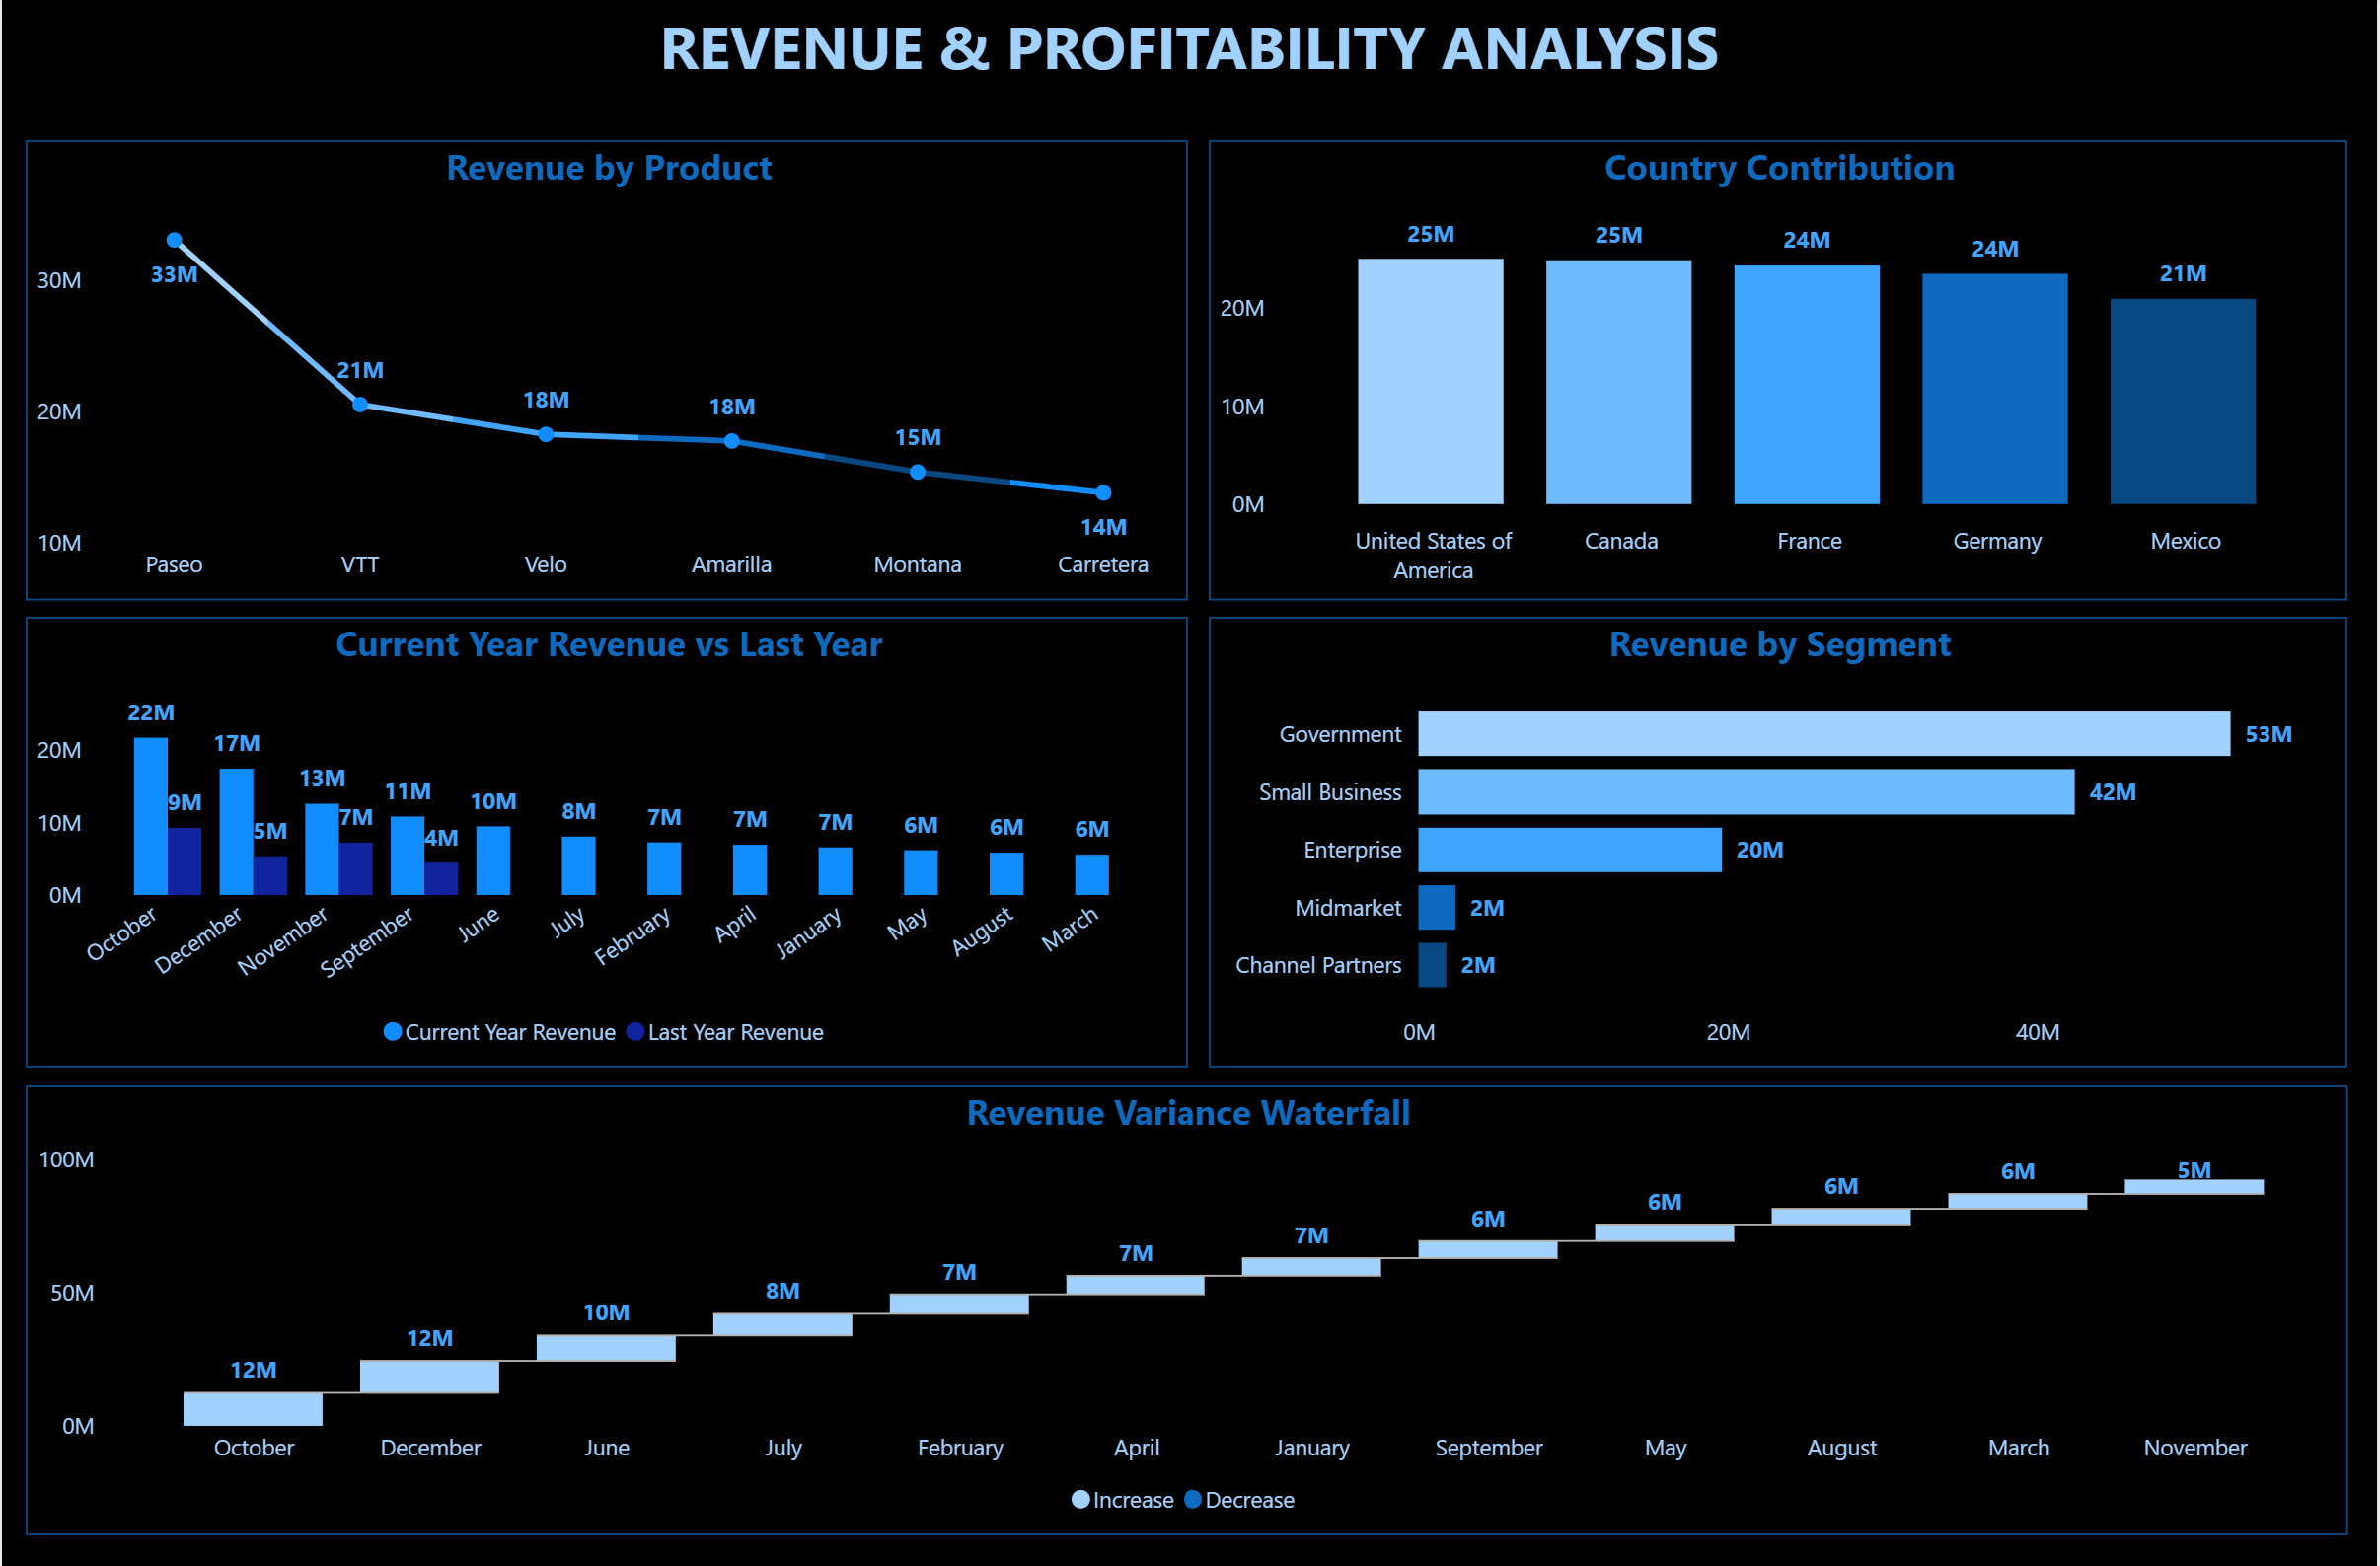

The page's visual inventory and layout, read from the dashboard file:
{"tool":"powerbi","page":{"name":"Performance Analysis","canvas":[1280,850],"ordinal":1},"visuals":[{"type":"lineChart","title":"Revenue by Product","fields":{"Y":["Measure Table.Total Revenue"],"Category":["DimProduct.Product"]},"box":[13.3,77.5,626.7,248],"z":0},{"type":"clusteredColumnChart","title":"Current Year Revenue vs Last Year","fields":{"Y":["Measure Table.Total Revenue","Measure Table.Revenue LY"],"Category":["DimDates.Month Name"]},"box":[13.3,335,626.7,242.4],"z":1000},{"type":"barChart","title":"Revenue by Segment","fields":{"Y":["Measure Table.Total Revenue"],"Category":["DimSegment.Segment"]},"box":[651.4,335.1,613.5,242.4],"z":2000},{"type":"textbox","box":[0,0,1280,57.6],"z":3000},{"type":"columnChart","title":"Country Contribution","fields":{"Y":["Measure Table.Total Revenue"],"Category":["DimCountry.Country"]},"box":[651.4,77.5,613.5,248],"z":4000},{"type":"waterfallChart","title":"Revenue Variance Waterfall","fields":{"Y":["Measure Table.Revenue Variance"],"Category":["DimDates.Month Name"]},"box":[13.3,586.8,1251.6,242.4],"z":5000}]}

Visuals, with their boxes in screenshot pixels (x1, y1, x2, y2), scaled from the page's 1280x850 canvas onto the 2380x1566 screenshot:
"Revenue by Product" lineChart: [25,143,1190,600]
"Current Year Revenue vs Last Year" clusteredColumnChart: [25,617,1190,1064]
"Revenue by Segment" barChart: [1211,618,2352,1064]
textbox: [0,0,2379,107]
"Country Contribution" columnChart: [1211,143,2352,600]
"Revenue Variance Waterfall" waterfallChart: [25,1081,2352,1528]
